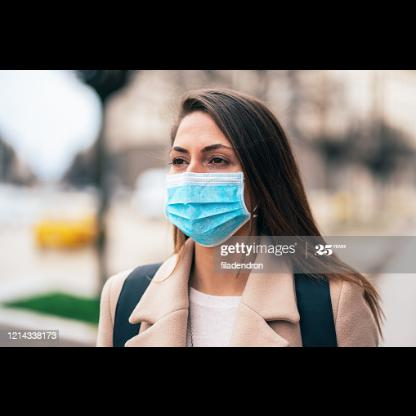Surgical Mask: (160, 114, 264, 250)
